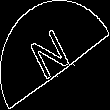N_SE: (30, 23, 80, 87)
